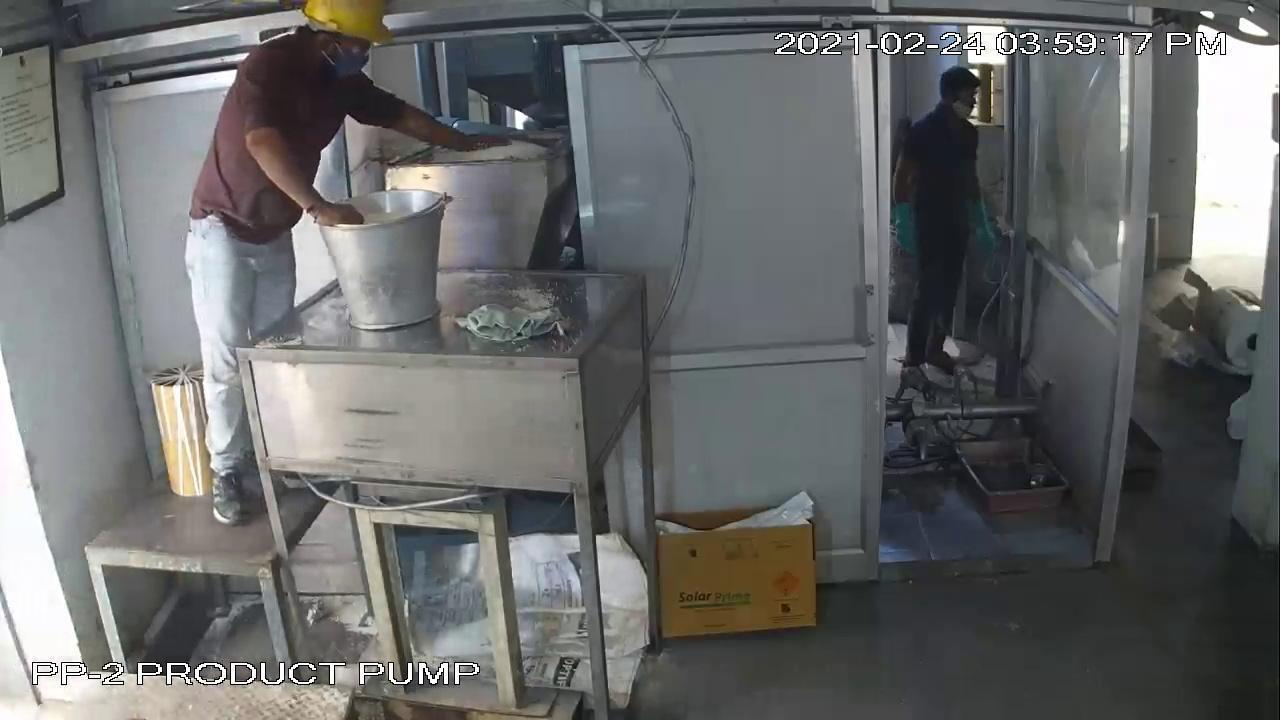helmet: (301, 1, 397, 54)
